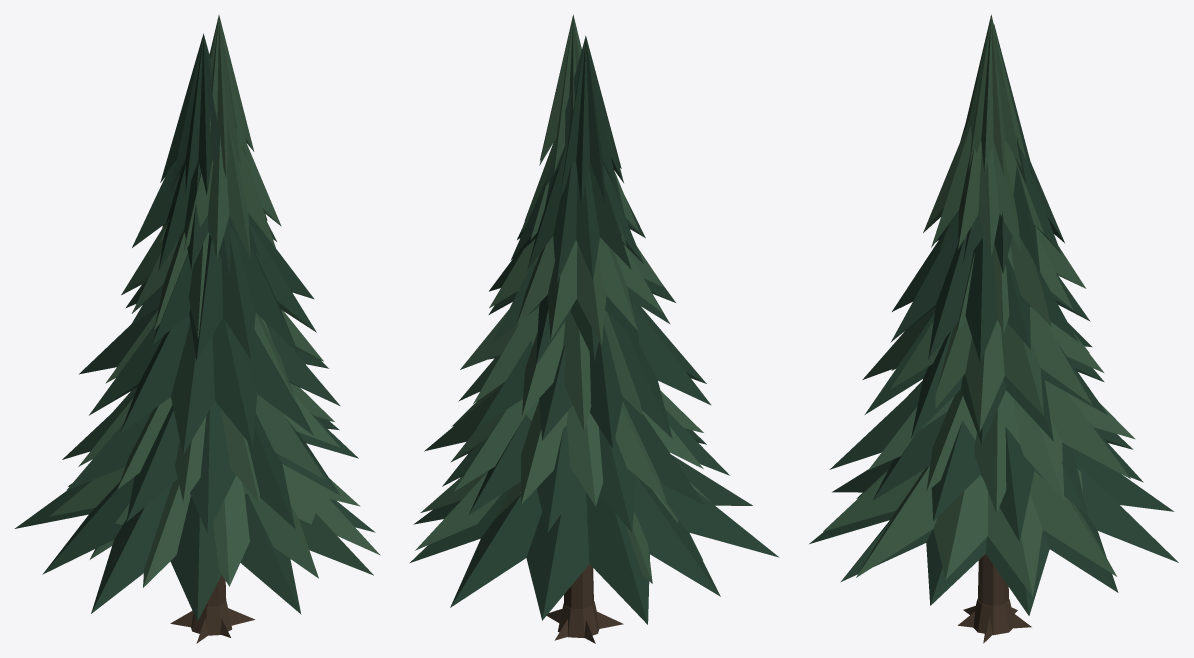
Rendered from tree_pine_01.glb.
The picture shows the model from 3 angles, left to right: view 1: azimuth 30°, elevation 25°; view 2: azimuth 150°, elevation 25°; view 3: azimuth 270°, elevation 25°; orthographic projection.
Visible parts, largest first — view 1: tree_pine_01; view 2: tree_pine_01; view 3: tree_pine_01.
Boxes of the visible parts, x1,y1,x2,y2 form: tree_pine_01: (14,15,380,643); tree_pine_01: (409,14,779,643); tree_pine_01: (809,14,1178,643).
Size of what is drawn, in the model's own units: 4.82 by 9.15 by 5.
1 material, 1 textured.
